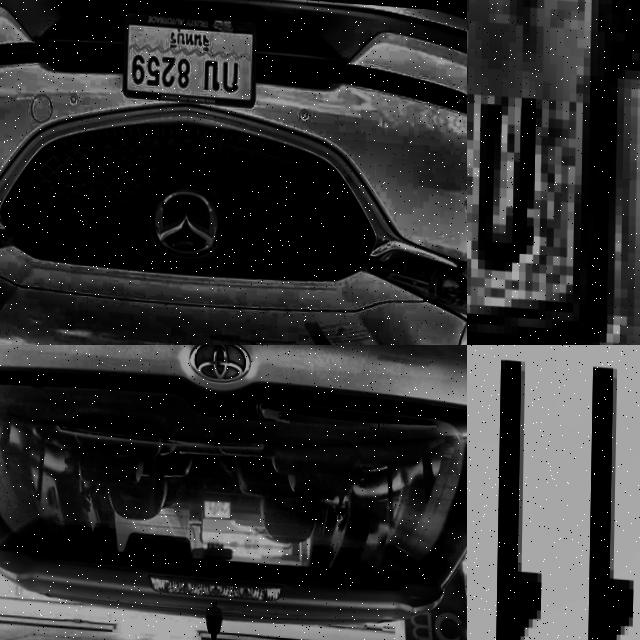license-plate: (467, 0, 640, 345), (467, 345, 640, 640), (120, 4, 258, 109)
